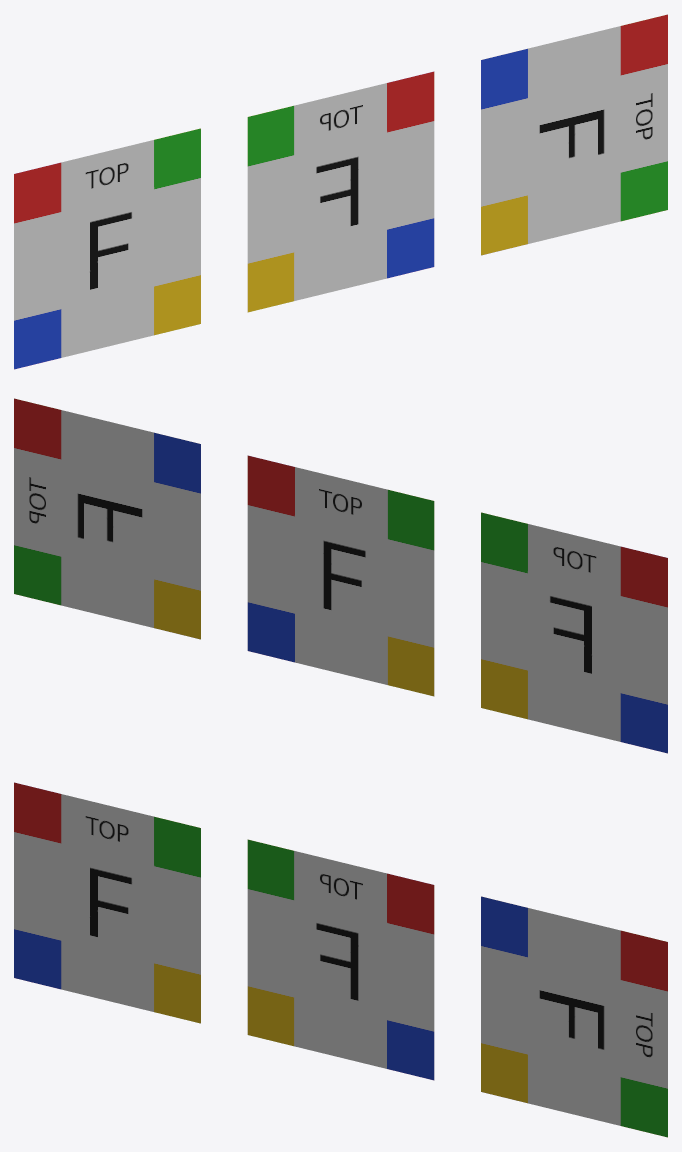
Rendered from texture_transform.glb.
3 views of the same model, one above another, from view 1: azimuth 30°, elevation 25°; view 2: azimuth 150°, elevation 25°; view 3: azimuth 330°, elevation 25° (orthographic).
Visible parts, largest first — view 1: mirrored, plain, rotated; view 2: mirrored, plain, rotated; view 3: mirrored, plain, rotated.
Part boxes in pixels (<box>): mirrored: <box>247,71,434,312</box>; plain: <box>14,128,200,369</box>; rotated: <box>481,14,667,255</box>; mirrored: <box>247,455,434,696</box>; plain: <box>481,512,667,753</box>; rotated: <box>14,398,200,639</box>; mirrored: <box>247,839,434,1080</box>; plain: <box>14,782,200,1023</box>; rotated: <box>481,896,667,1137</box>.
Size of the model in its own units: 0.07 by 0.02 by 0.
3 materials, 3 textured.
